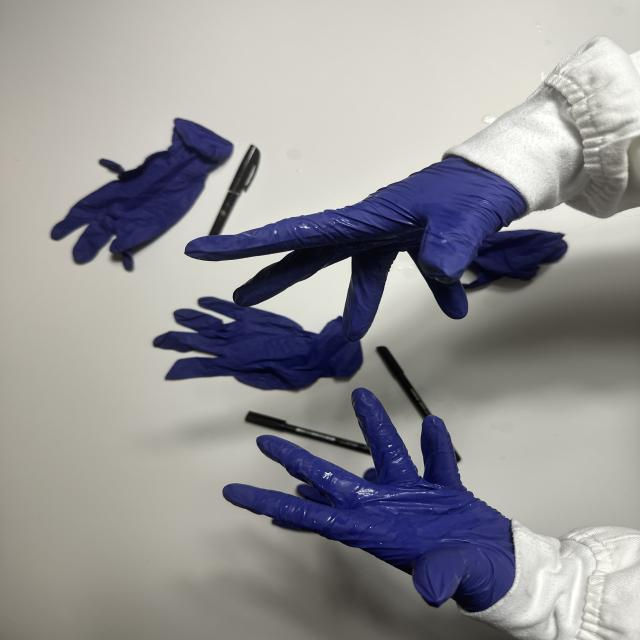gloves_contaminated: (223, 388, 515, 612), (186, 158, 526, 341)
